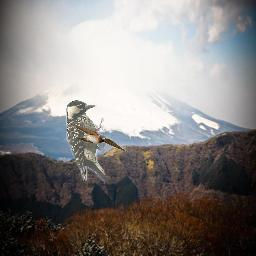Swallow: (66, 120, 128, 152)
Woodpecker: (66, 100, 109, 184)
